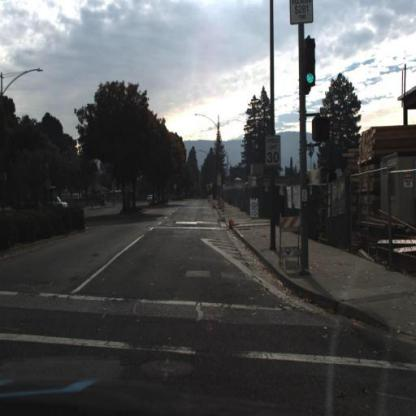car: (47, 197, 70, 211), (144, 195, 155, 209)
trafficLight-Green: (303, 35, 317, 88)
